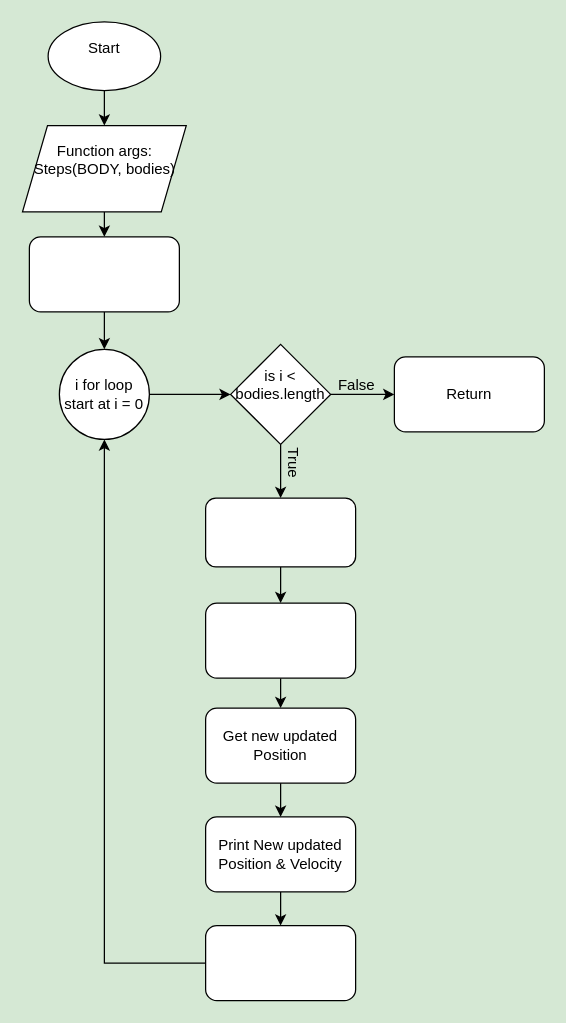
The diagram is 566 pixels wide and 1023 high, and some of its shapes have lost their labels. Here are the shapes that lost their labels. From the top down, the centre of each, then its label:
point (103, 274): Initialize variables & Time step = 0
point (280, 532): Get new updated Compute Forces
point (280, 640): Get new updated Velocity
point (280, 962): Increment Time step t = t + deltatime
